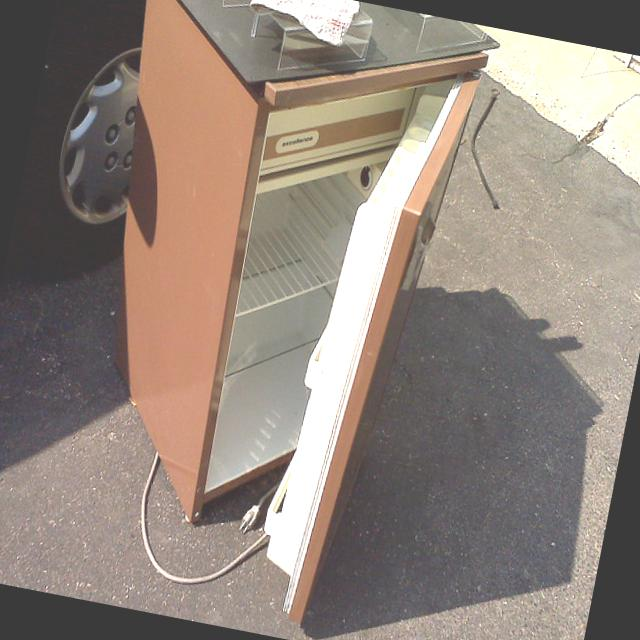Vehicle: (0, 0, 180, 318)
